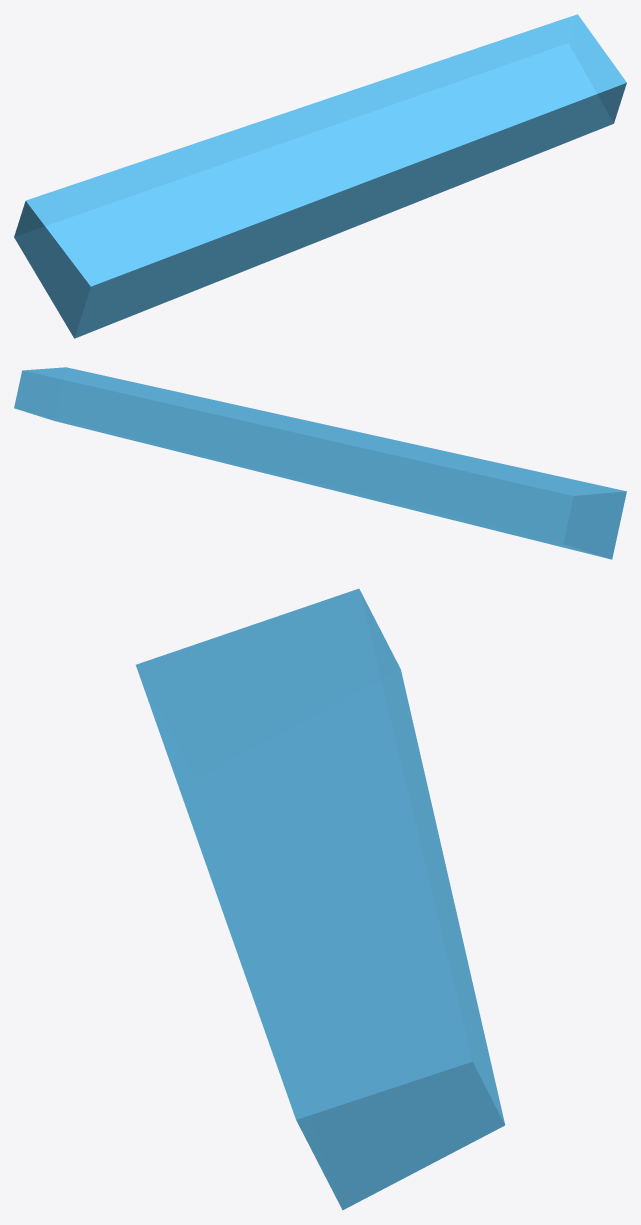
The model's file is Event_421115418_HErechit_109.fbx.
3 views of the same model, one above another, from view 1: azimuth 30°, elevation 25°; view 2: azimuth 150°, elevation 25°; view 3: azimuth 270°, elevation 25° (orthographic). The views are drawn at different scales.
Parts seen in each view (by area): view 1: Model; view 2: Model; view 3: Model.
Boxes of the visible parts, x1=… form: Model: x1=14, y1=14, x2=626, y2=338; Model: x1=14, y1=367, x2=626, y2=559; Model: x1=136, y1=588, x2=504, y2=1210.
Size of the model in its own units: 3.01 by 0.6208 by 0.9199.
